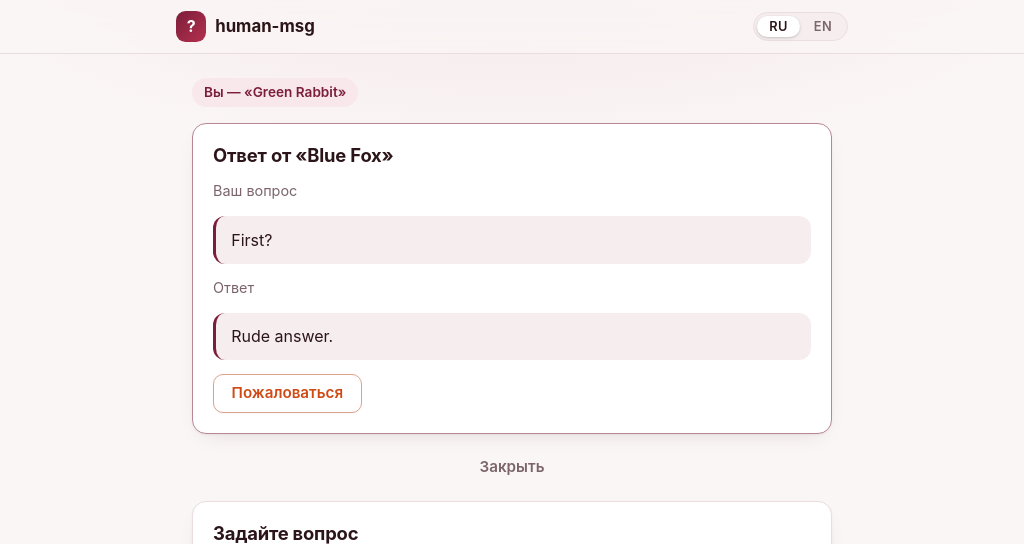
Test: reporting an answer › asks for confirmation, then reports the answer by its question
The width and height of the screenshot is (1024, 544).
Click the button "Пожаловаться".
click(287, 394)  # box [213,374,362,413]
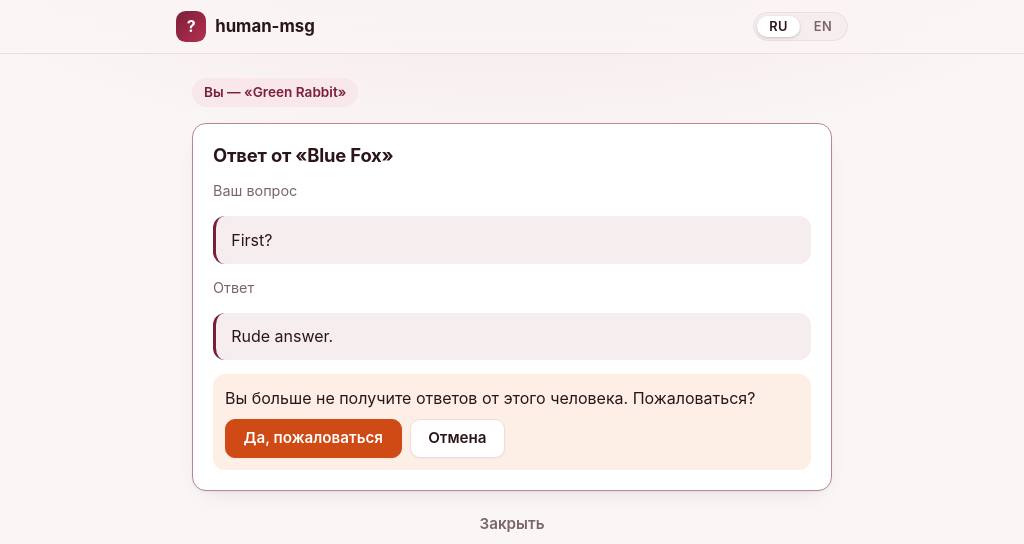
Expected: the dialog shows "Вы больше не получите ответов от этого человека.", [225,388,755,408]
Click the button "Да, пожаловаться".
click(313, 438)  # box [225,419,402,458]
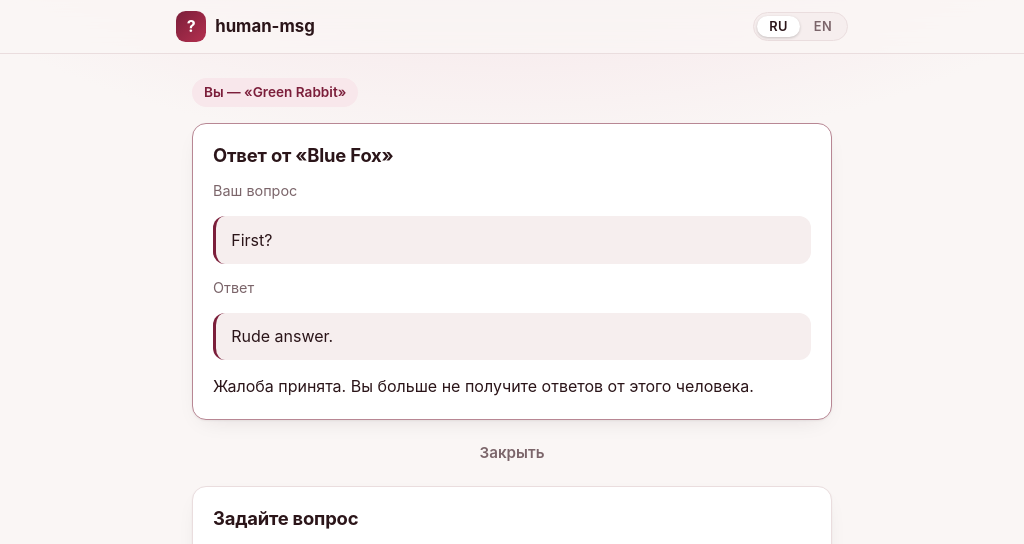
Expected: the text "Жалоба принята. Вы больше не получите ответов от этого человека." is shown, [213,374,811,399]
